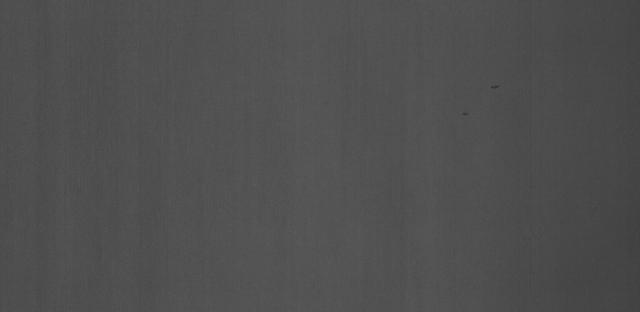inclusion: (448, 102, 481, 126), (481, 78, 508, 102)
